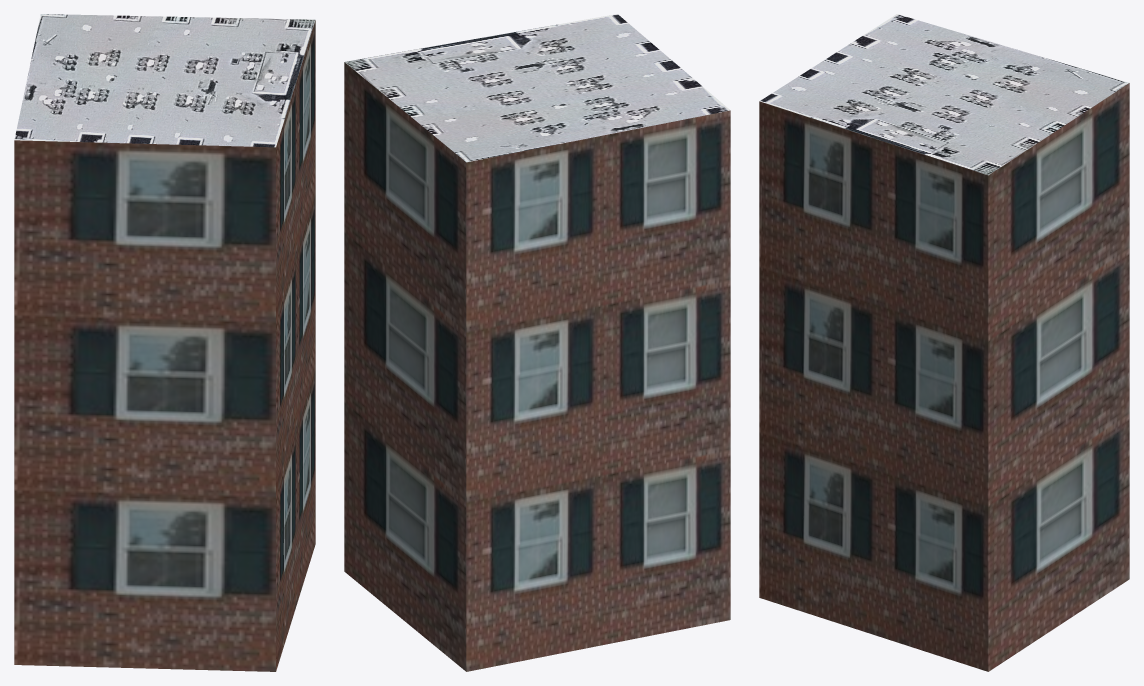
Rendered from ResTex__5161.fbx.
The picture shows the model from 3 angles, left to right: view 1: azimuth 30°, elevation 25°; view 2: azimuth 150°, elevation 25°; view 3: azimuth 270°, elevation 25°; orthographic projection. The views are drawn at different scales.
Parts seen in each view (by area): view 1: CityEngineMaterial_14_m, CityEngineMaterial_m; view 2: CityEngineMaterial_14_m, CityEngineMaterial_m; view 3: CityEngineMaterial_14_m, CityEngineMaterial_m.
Boxes of the visible parts, x1=… form: CityEngineMaterial_14_m: x1=14, y1=20, x2=315, y2=671; CityEngineMaterial_m: x1=14, y1=14, x2=315, y2=147; CityEngineMaterial_14_m: x1=344, y1=62, x2=730, y2=671; CityEngineMaterial_m: x1=345, y1=14, x2=730, y2=162; CityEngineMaterial_14_m: x1=759, y1=83, x2=1129, y2=671; CityEngineMaterial_m: x1=760, y1=14, x2=1128, y2=175.
Size of the model in its own units: 6.28 by 9 by 6.08.
2 materials, 2 textured.
